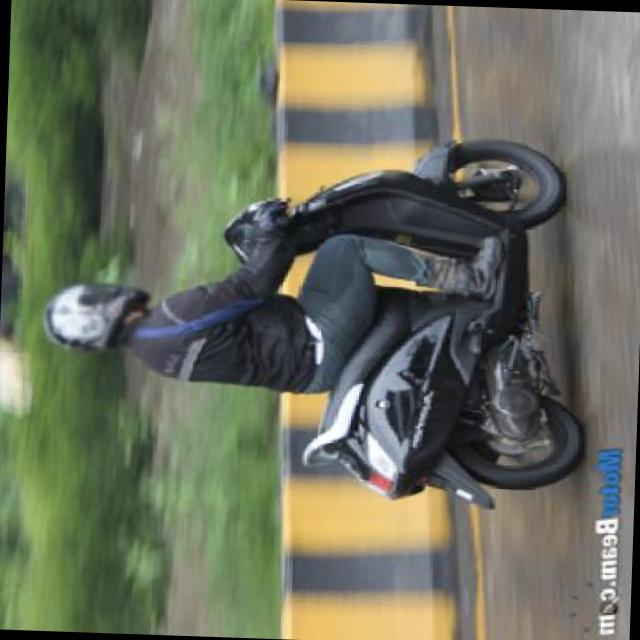With Helmet: (36, 273, 158, 359)
